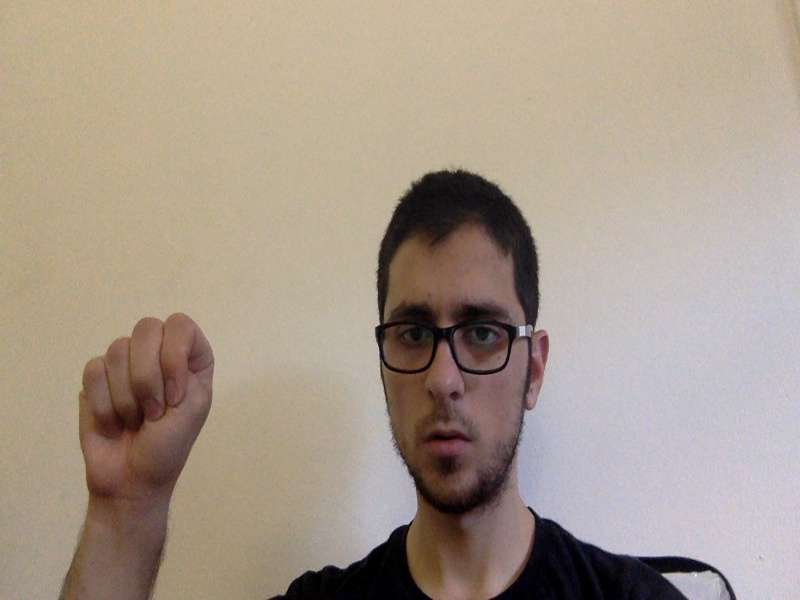0-hand: (79, 314, 214, 496)
